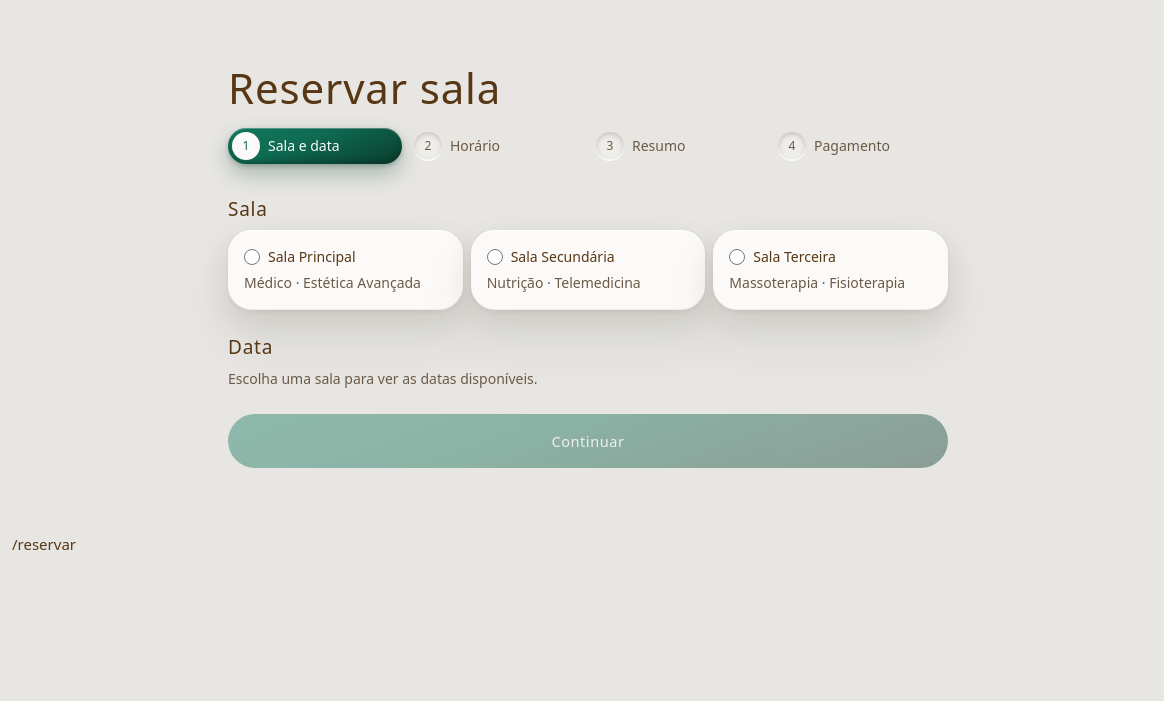
Test: BookingFlowPage steps (NUC-98) › picks room and date on the first step and moves on to Horário
Click the radio button labelled "Sala Secundária Nutrição · Telemedicina". click: (495, 257)
box: left=487, top=249, right=503, bottom=265
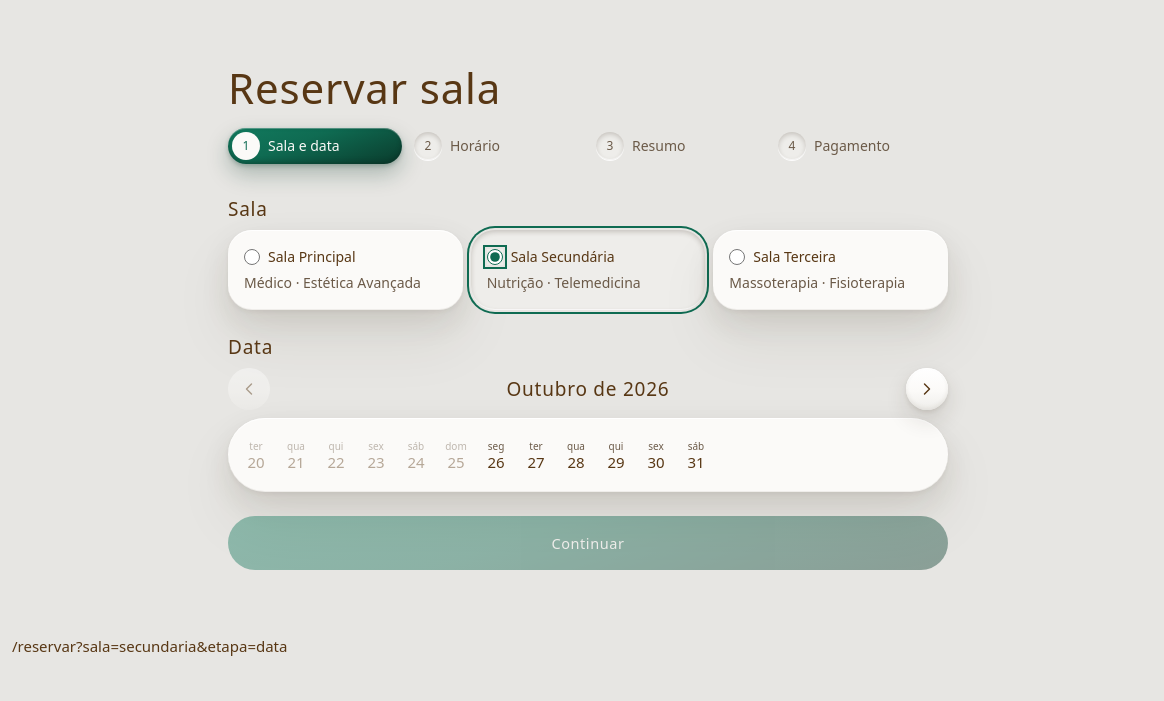
Check: the button "Continuar" is disabled, box left=228, top=516, right=948, bottom=570
Click the button with aria-label "28 de outubro". click: (576, 455)
box: left=558, top=428, right=594, bottom=482
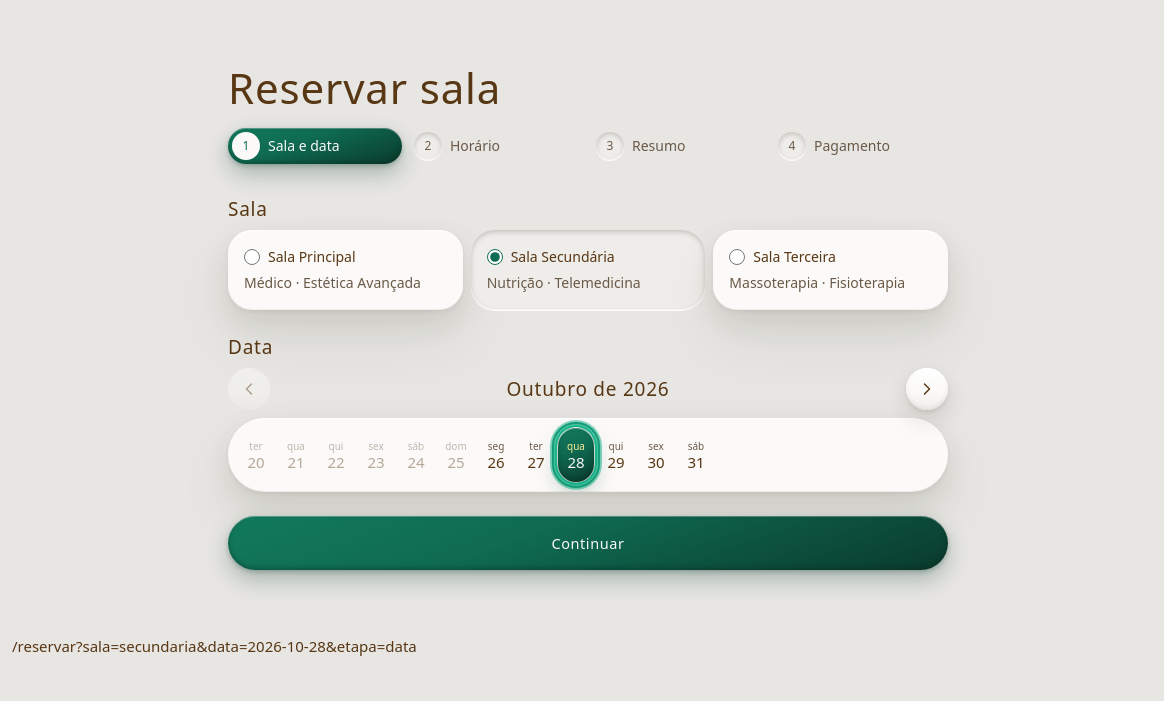
Click the button "Continuar". click: (588, 543)
box: left=228, top=516, right=948, bottom=570
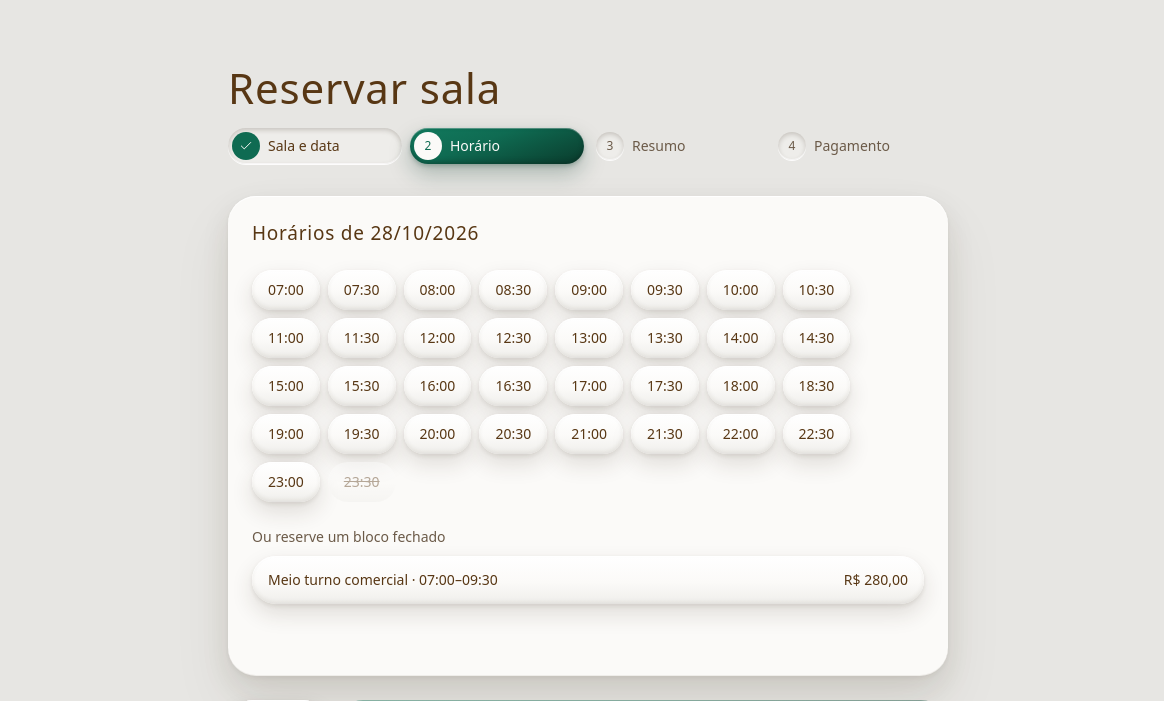
Check: the list named "Horários de início" is shown, box left=252, top=270, right=924, bottom=502
